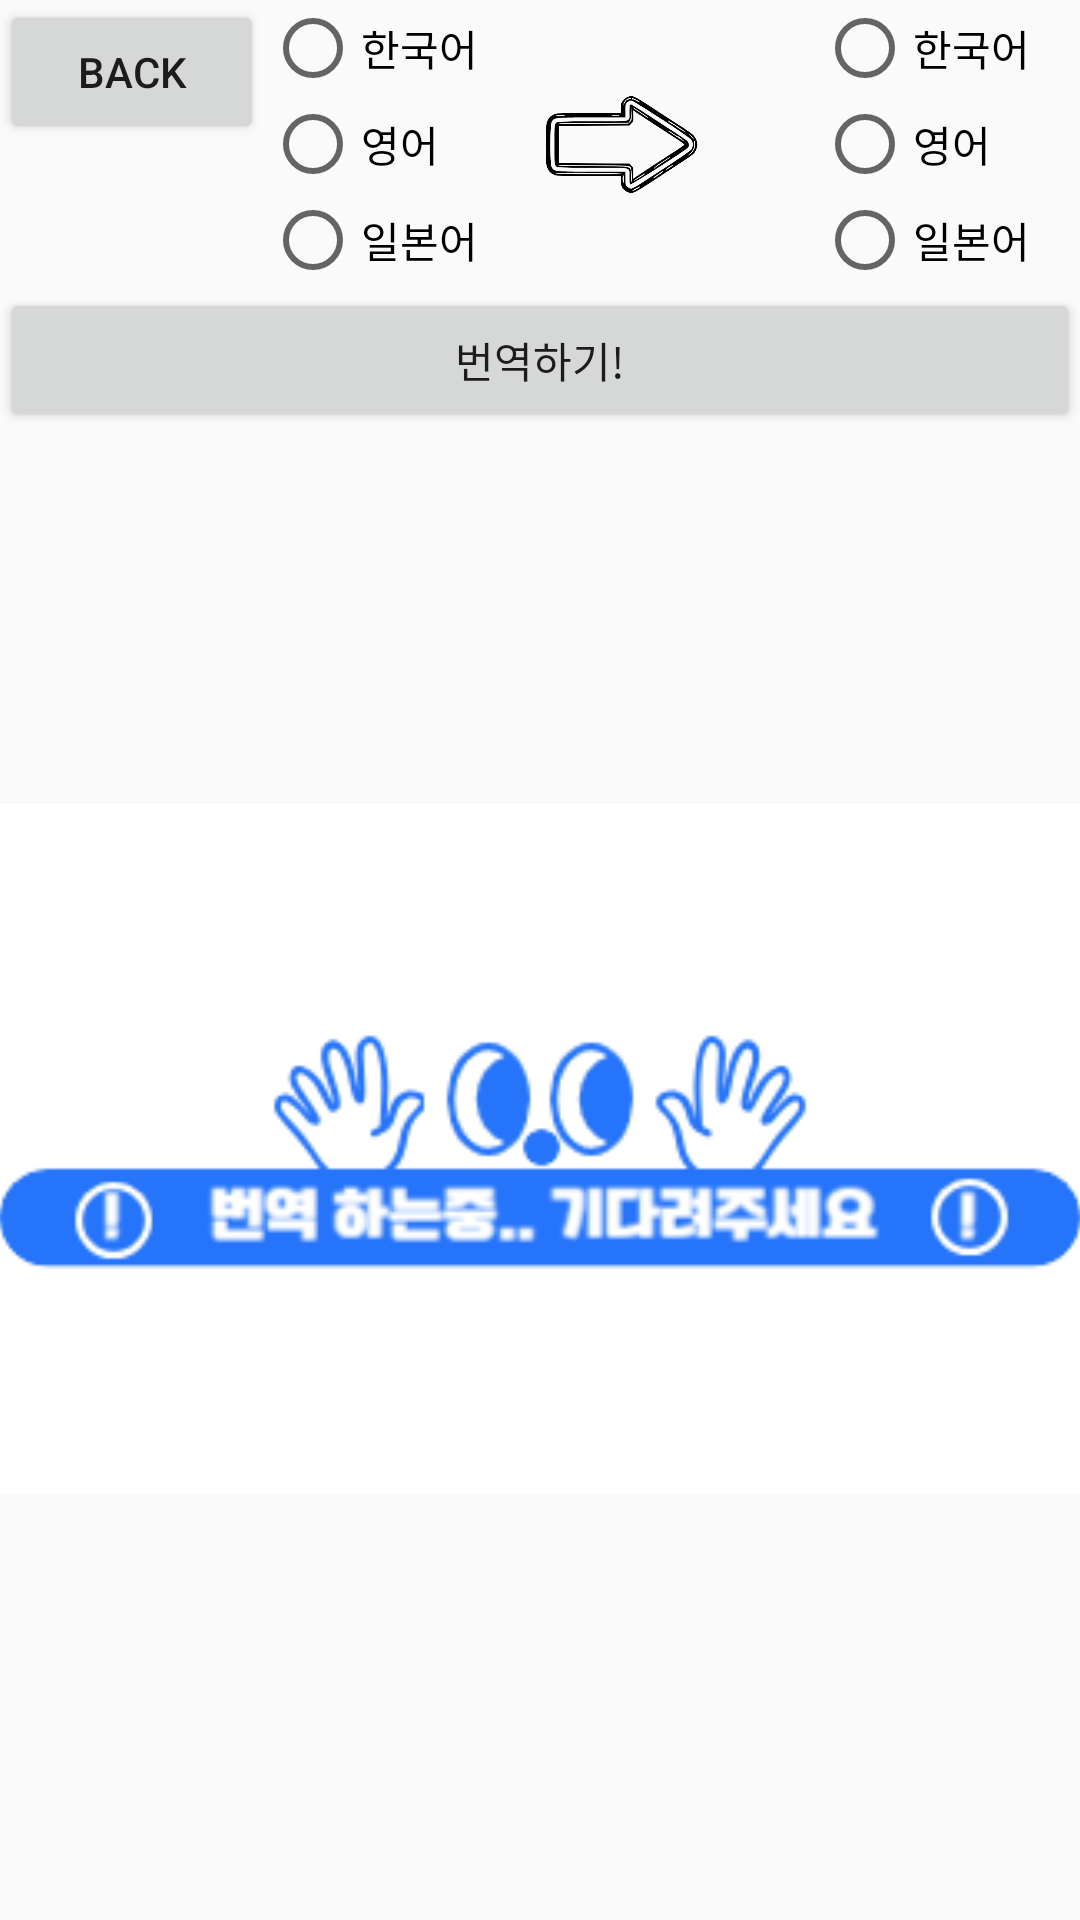

Where to tap for icons on this 1080px×1920px app screen, as (x,y):
arrow: (622,144)
